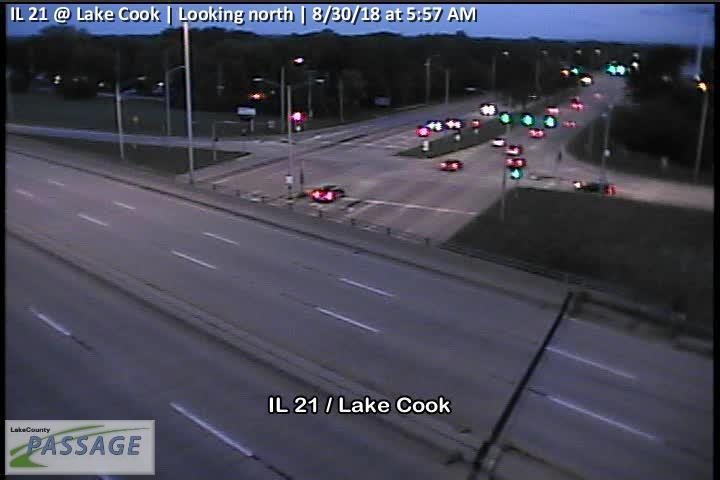SUV: (574, 178, 617, 196), (309, 184, 345, 202)
Sedan: (439, 158, 463, 171)
